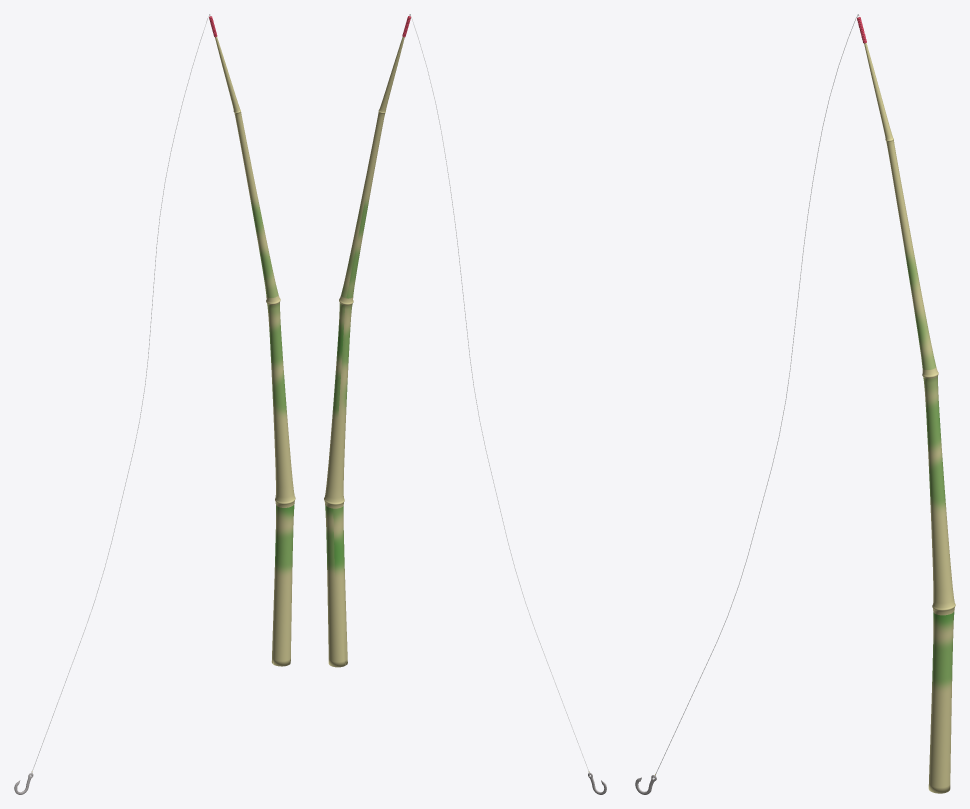
Rendered from fishing-road.fbx.
3 views of the same model, side by side, from view 1: azimuth 30°, elevation 25°; view 2: azimuth 150°, elevation 25°; view 3: azimuth 330°, elevation 25° (orthographic). The views are drawn at different scales.
Visible parts, largest first — view 1: BezierCurve.001; view 2: BezierCurve.001; view 3: BezierCurve.001.
Boxes of the visible parts, left/top/right/bottom form: BezierCurve.001: left=14, top=14, right=295, bottom=794; BezierCurve.001: left=324, top=14, right=606, bottom=794; BezierCurve.001: left=635, top=14, right=955, bottom=794.
Bounding box in the file's own units: 64.79 × 162 × 4.16.
Materials: 4 (1 with a texture image).
